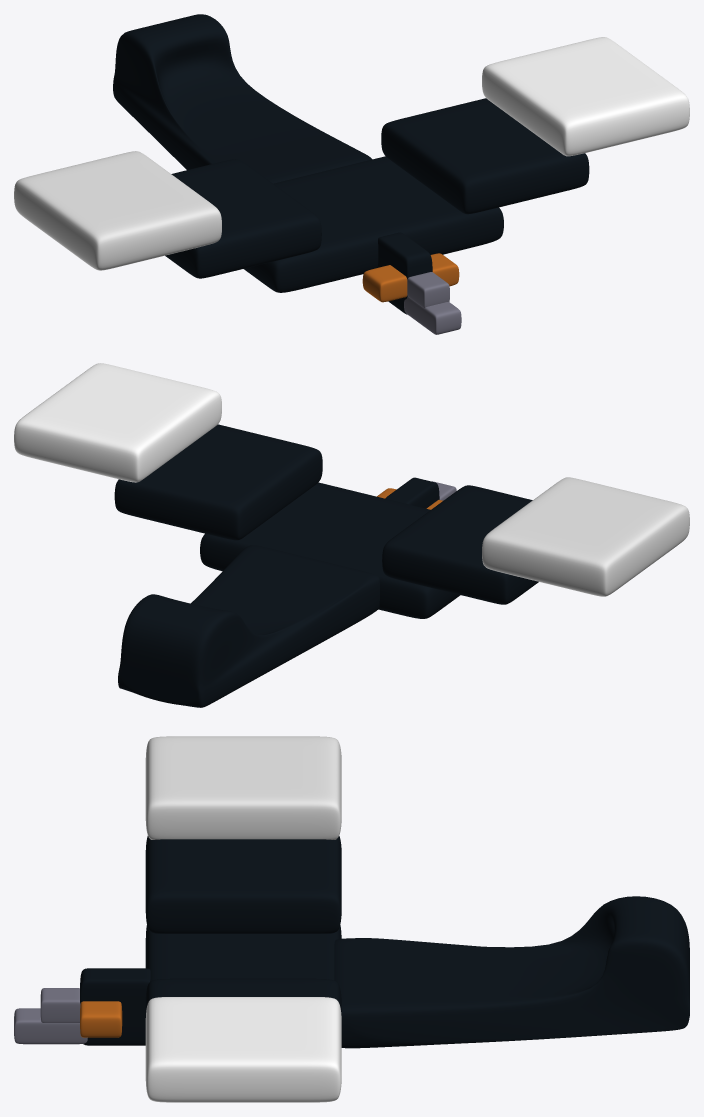
File: DinoBird.fbx
The picture shows the model from 3 angles, top to bottom: view 1: azimuth 30°, elevation 25°; view 2: azimuth 150°, elevation 25°; view 3: azimuth 270°, elevation 25°; orthographic projection. The views are drawn at different scales.
Visible parts, largest first — view 1: Cube.088, Cube.087, Cube.086, Cube.082, Cube.083, Cube.085, Cube.091, Cube.089, Cube.084, Cube.090; view 2: Cube.088, Cube.087, Cube.086, Cube.083, Cube.082, Cube.085, Cube.089; view 3: Cube.088, Cube.086, Cube.087, Cube.085, Cube.082, Cube.083, Cube.089, Cube.084, Cube.091, Cube.090.
Part boxes in pixels (<box>): Cube.088: <box>113,14,372,183</box>; Cube.087: <box>14,151,221,270</box>; Cube.086: <box>482,37,689,156</box>; Cube.082: <box>244,156,503,292</box>; Cube.083: <box>381,98,589,214</box>; Cube.085: <box>165,159,321,278</box>; Cube.091: <box>362,253,459,302</box>; Cube.089: <box>377,232,432,314</box>; Cube.084: <box>404,296,461,334</box>; Cube.090: <box>407,272,449,308</box>; Cube.088: <box>118,545,379,707</box>; Cube.087: <box>482,477,689,596</box>; Cube.086: <box>14,363,221,482</box>; Cube.083: <box>114,424,322,540</box>; Cube.082: <box>200,482,460,618</box>; Cube.085: <box>382,485,538,604</box>; Cube.089: <box>385,477,439,508</box>; Cube.088: <box>334,896,689,1048</box>; Cube.086: <box>145,997,341,1102</box>; Cube.087: <box>145,736,341,839</box>; Cube.085: <box>145,836,341,933</box>; Cube.082: <box>145,925,341,999</box>; Cube.083: <box>145,978,341,1017</box>; Cube.089: <box>80,968,150,1045</box>; Cube.084: <box>14,1008,87,1044</box>; Cube.091: <box>80,1001,122,1037</box>; Cube.090: <box>40,988,80,1022</box>.
Size of the model in its own units: 603 by 122 by 520.
